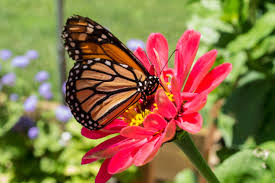Butterfly: (55, 13, 160, 132)
